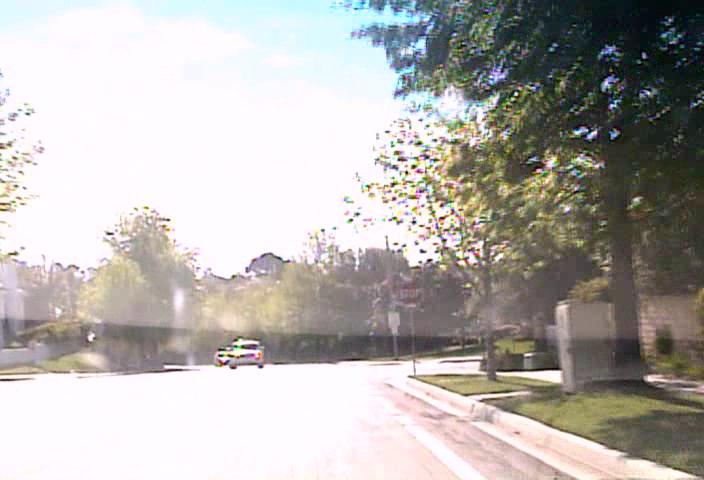stop: (397, 280, 422, 305)
